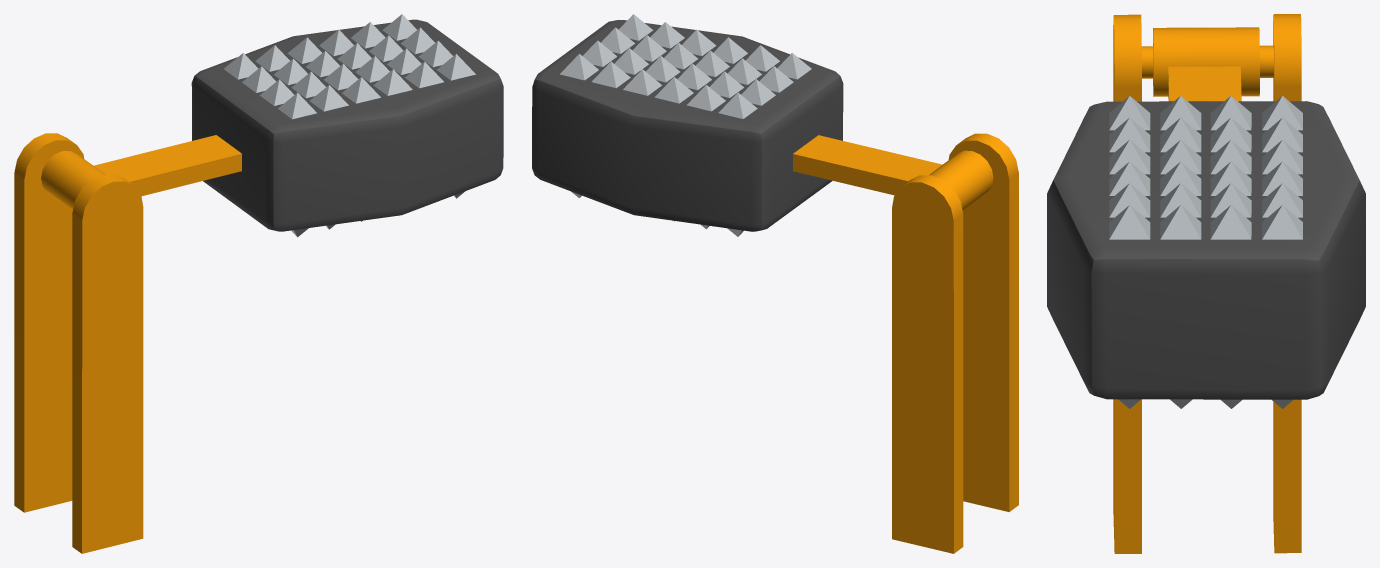
Rendered from trap_02.fbx.
3 renders of one model, left to right at view 1: azimuth 30°, elevation 25°; view 2: azimuth 150°, elevation 25°; view 3: azimuth 270°, elevation 25°, orthographic. The views are drawn at different scales.
Visible parts, largest first — view 1: hammer, base; view 2: hammer, base; view 3: hammer, base.
Part boxes in pixels (x1,y1,x2,y2): hammer: (41,14,503,237); base: (14,133,143,553); hammer: (532,14,993,236); base: (892,133,1018,553); hammer: (1047,27,1365,408); base: (1113,14,1301,553).
Bounding box in the file's own units: 2636 × 2427 × 1234.
Materials: 1 (1 with a texture image).
